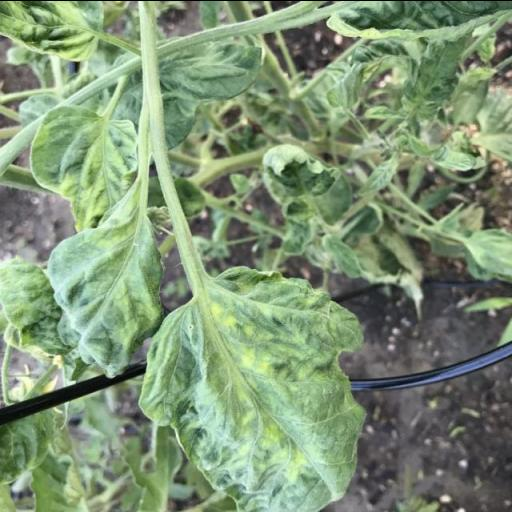disease_tomato: (137, 264, 366, 510), (43, 210, 166, 376), (26, 101, 138, 236)
